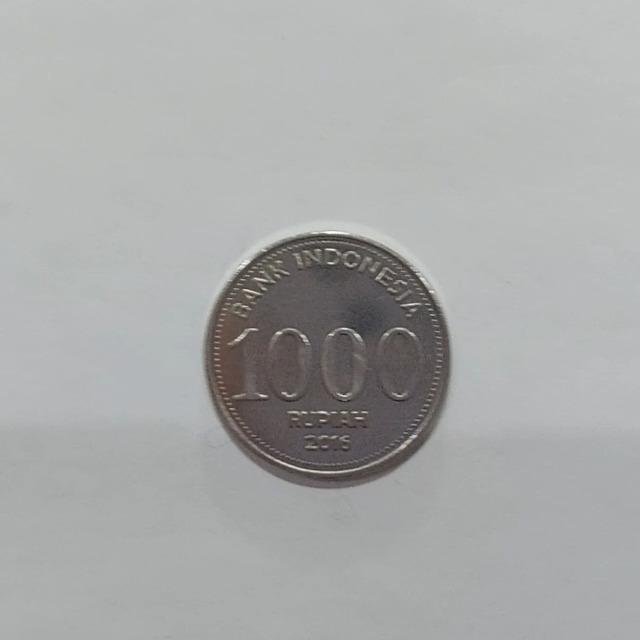Rp100: (201, 223, 452, 488)
